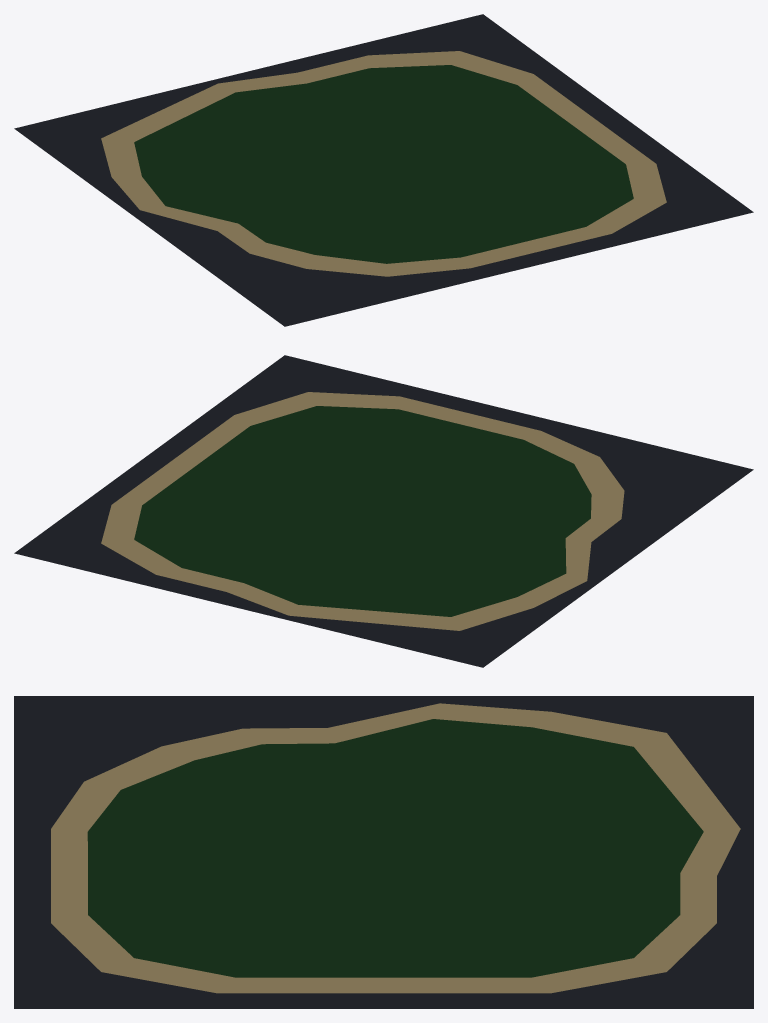
The model's file is terrain_plains_island.fbx.
3 renders of one model, top to bottom at view 1: azimuth 30°, elevation 25°; view 2: azimuth 150°, elevation 25°; view 3: azimuth 270°, elevation 25°, orthographic. The views are drawn at different scales.
Visible parts, largest first — view 1: terrain_plains_island; view 2: terrain_plains_island; view 3: terrain_plains_island.
Part boxes in pixels (x1,y1,x2,y2): terrain_plains_island: (14, 14, 753, 326); terrain_plains_island: (14, 355, 753, 667); terrain_plains_island: (14, 696, 753, 1008).
Bounding box in the file's own units: 10 × 0 × 10.
